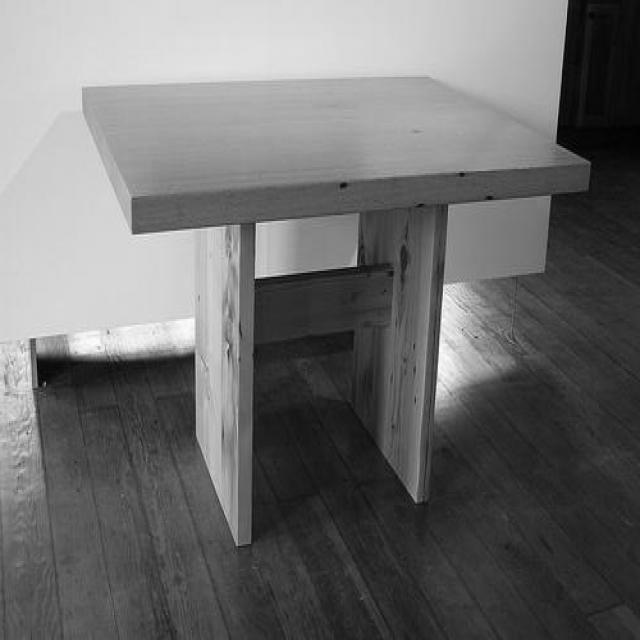table: (75, 72, 591, 546)
